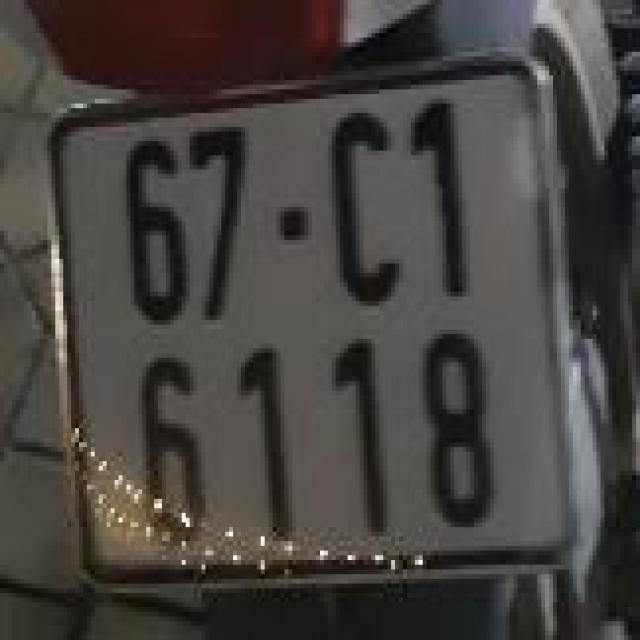1: (397, 87, 488, 313), (310, 330, 397, 550), (227, 337, 310, 558)
6: (112, 118, 196, 320), (128, 351, 208, 553)
7: (176, 115, 259, 327)
8: (407, 313, 502, 553)
C: (314, 103, 405, 306)
